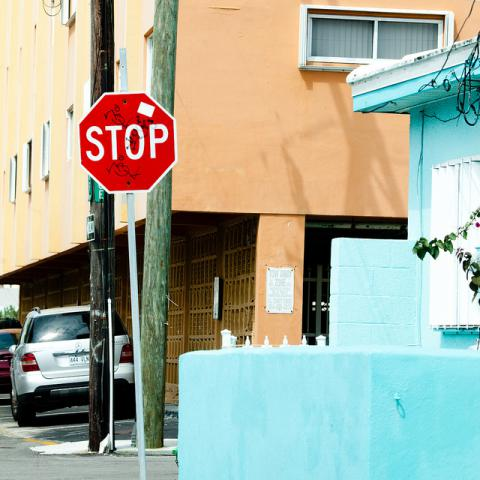car: (9, 305, 136, 428), (1, 331, 19, 394)
